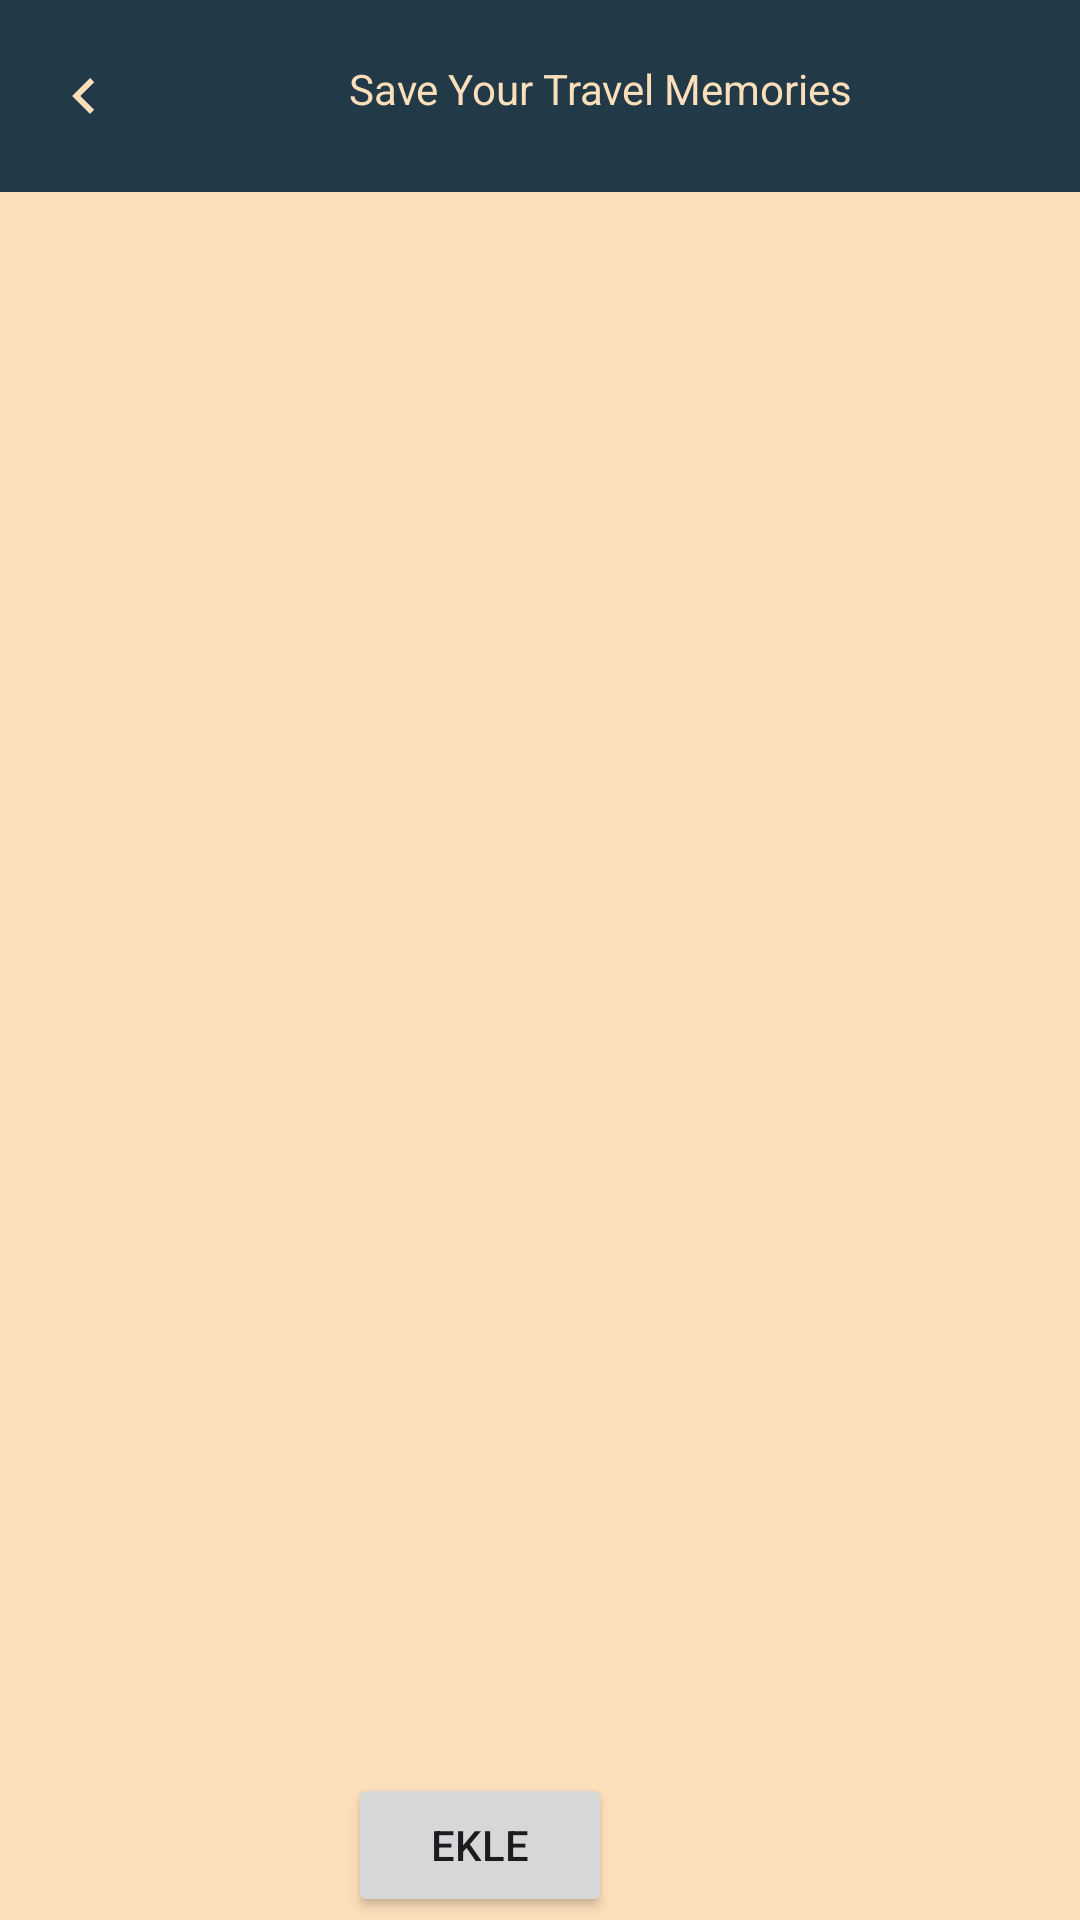

Icon bounding boxes for this 1080w x 1920h phone screenshot, format (left=x1, top=y1, right=x2, bottom=y2):
keyboard arrow left: (left=72, top=78, right=94, bottom=114)
